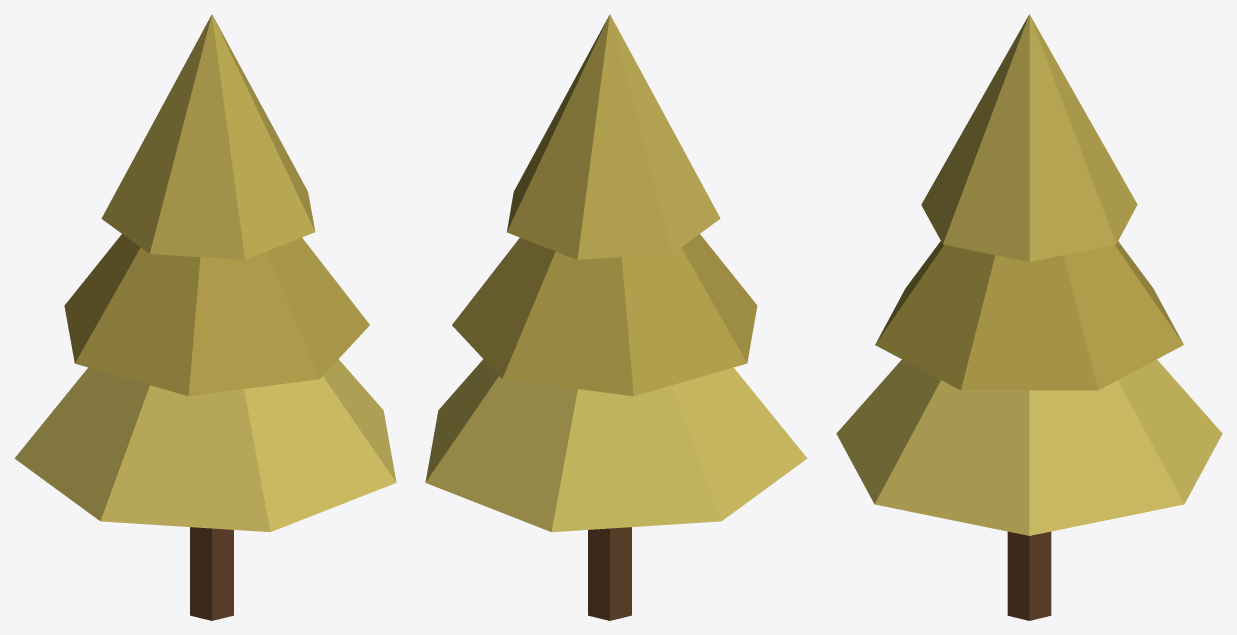
Rendered from SM_PineA_Y.obj.
3 views of the same model, side by side, from view 1: azimuth 30°, elevation 25°; view 2: azimuth 150°, elevation 25°; view 3: azimuth 270°, elevation 25° (orthographic).
Visible parts, largest first — view 1: SM_PineA_Y; view 2: SM_PineA_Y; view 3: SM_PineA_Y.
Boxes of the visible parts, x1,y1,x2,y2 form: SM_PineA_Y: [14, 14, 396, 620]; SM_PineA_Y: [425, 14, 807, 620]; SM_PineA_Y: [836, 14, 1222, 620].
Bounding box in the file's own units: 4.75 × 8.3 × 4.87.
Materials: 1 (1 with a texture image).
